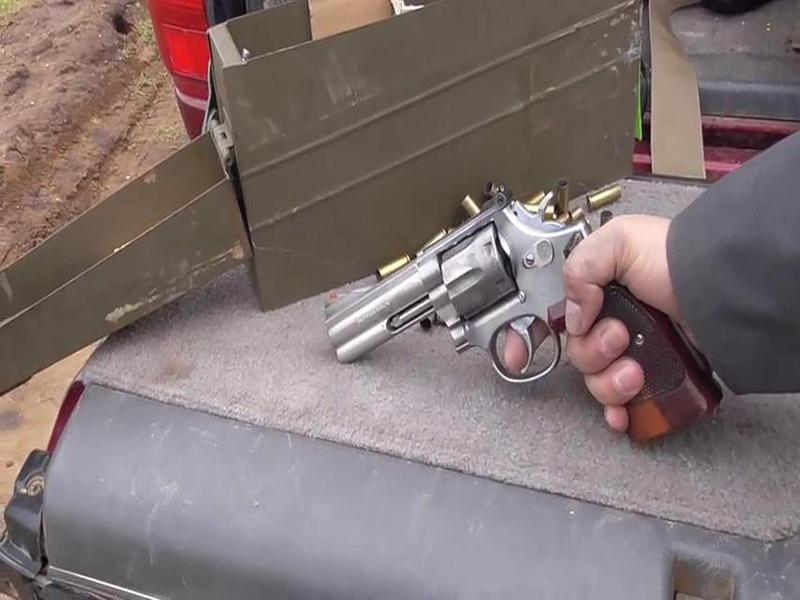Revolver: (289, 165, 696, 435)
